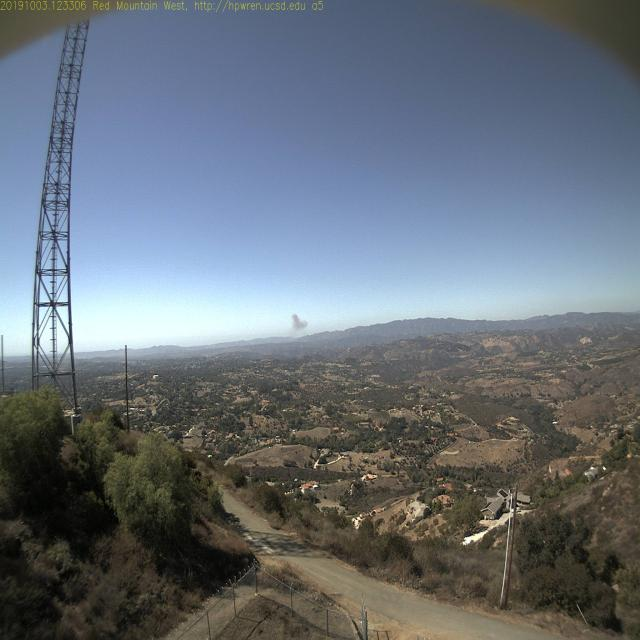smoke: (282, 305, 308, 349), (283, 307, 309, 342)
